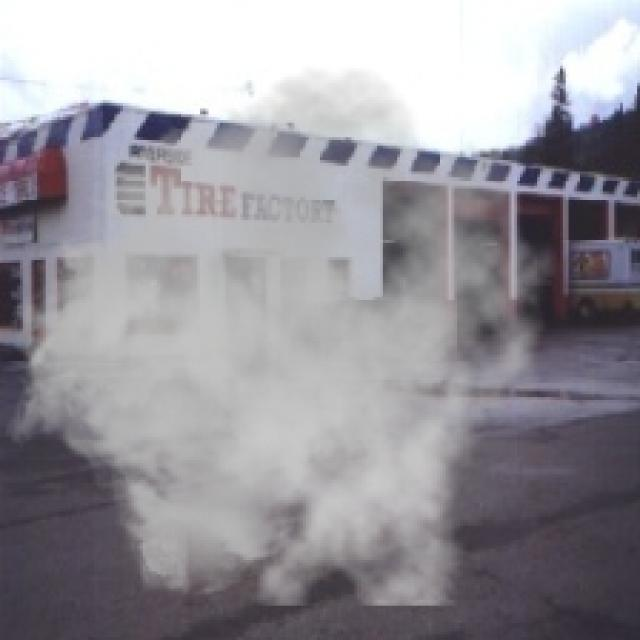Smoke: (3, 65, 560, 606)
